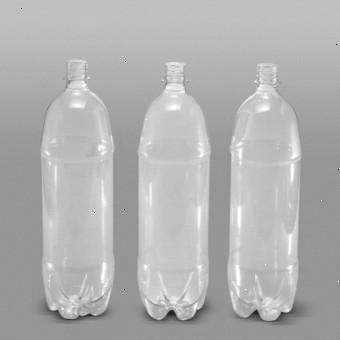bottle: (37, 54, 129, 333), (227, 56, 317, 340), (133, 51, 214, 318)
